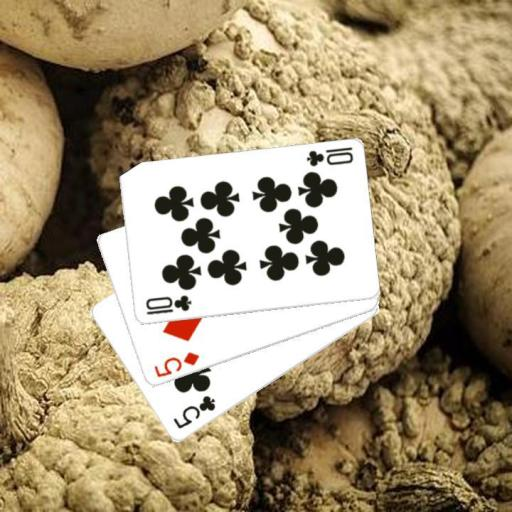10C: (303, 145, 355, 169), (142, 293, 193, 317)
5C: (170, 392, 217, 431)
5D: (151, 349, 201, 380)
